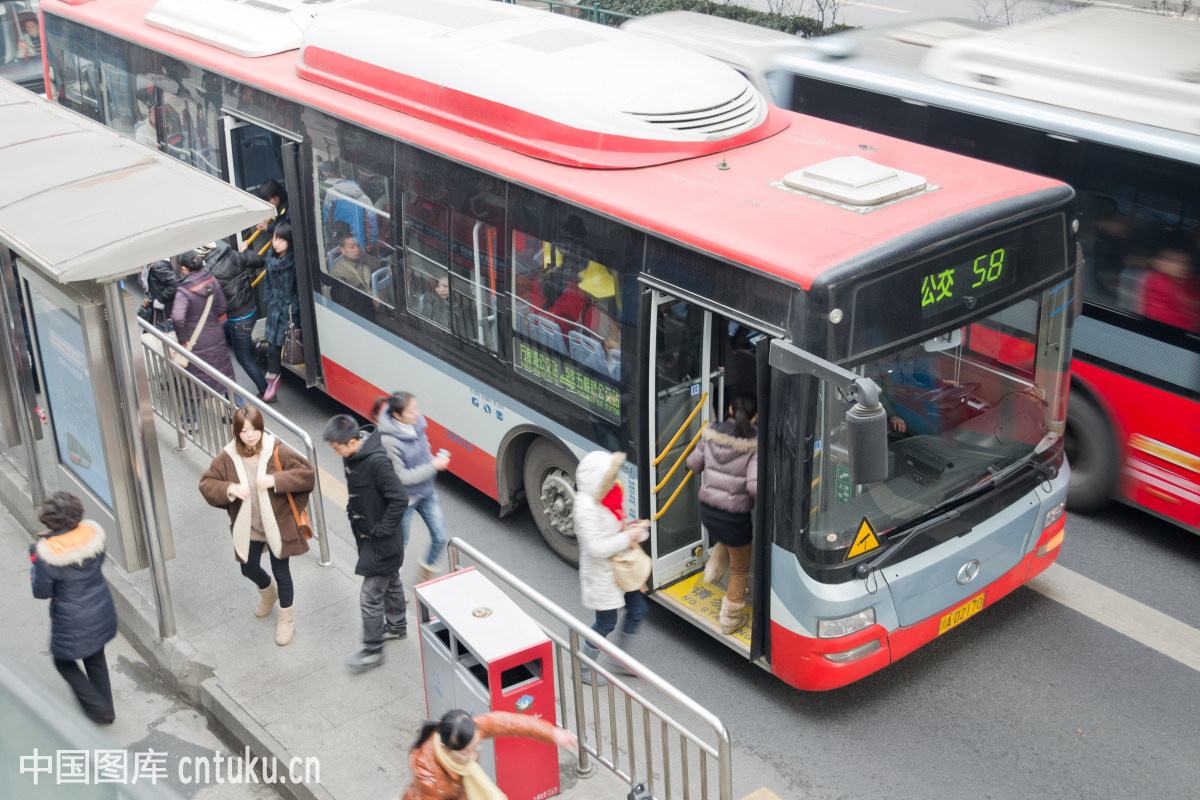bus: (116, 1, 1059, 499)
person: (11, 481, 143, 727), (324, 391, 442, 648), (207, 405, 321, 666), (565, 439, 648, 658), (391, 700, 560, 800)
